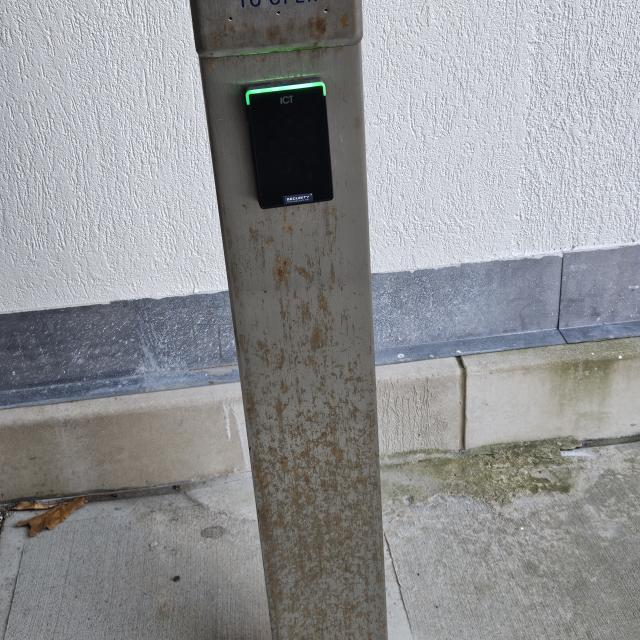Uniform Corrosion: (226, 233, 392, 640)
